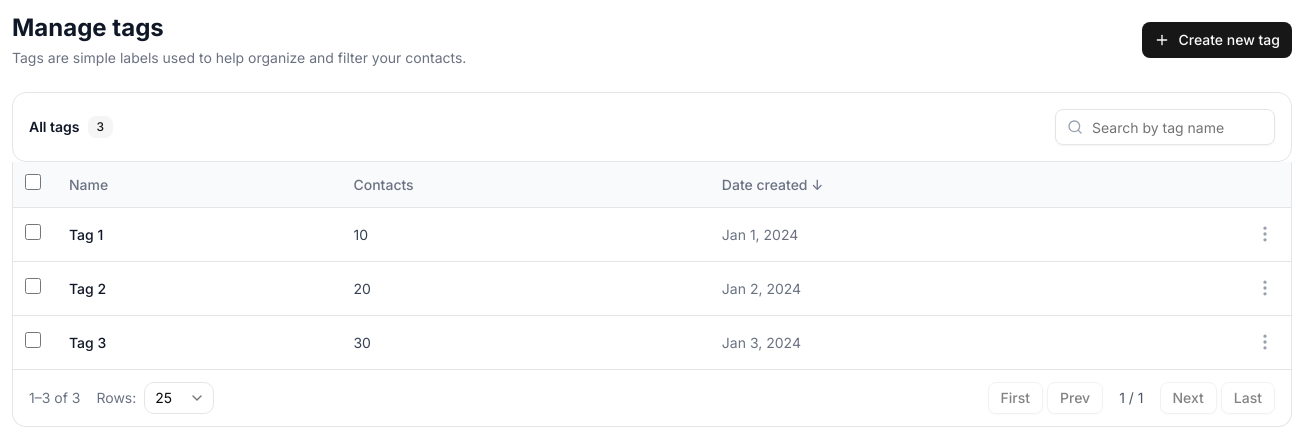
TagsManager › select-all checks all tags on the page
This screenshot has width=1304, height=444.
Click the checkbox next to "Name" at x=33, y=182, box [25,174,41,190]
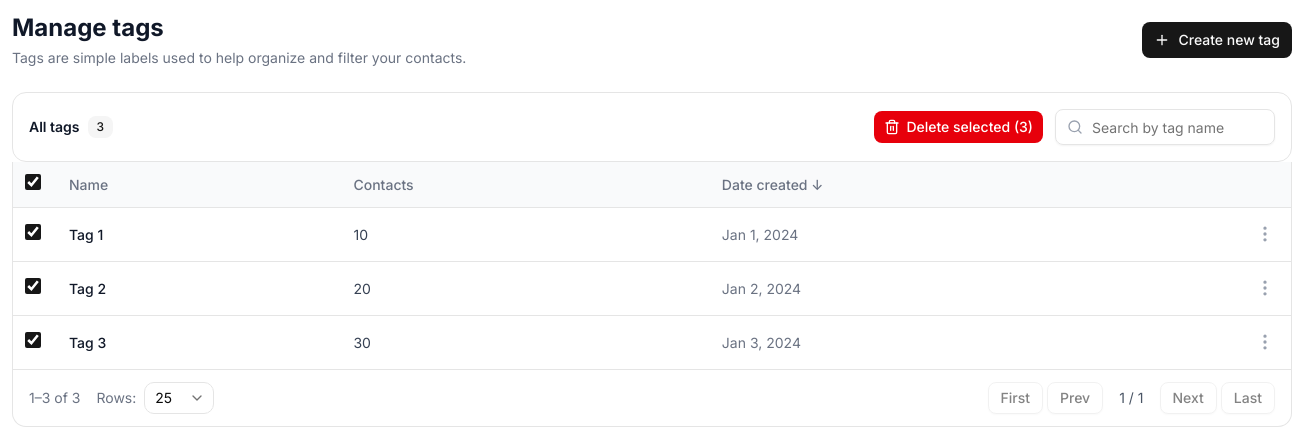
Now the checkbox next to "Tag 1" is checked, box [25,224,41,240]
Now the checkbox next to "Tag 2" is checked, box [25,278,41,294]
Now the checkbox next to "Tag 3" is checked, box [25,332,41,348]
